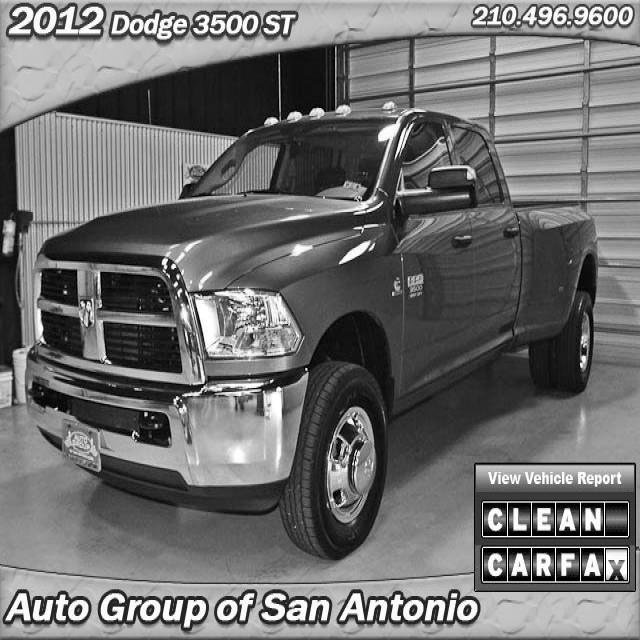car: (24, 100, 599, 560)
